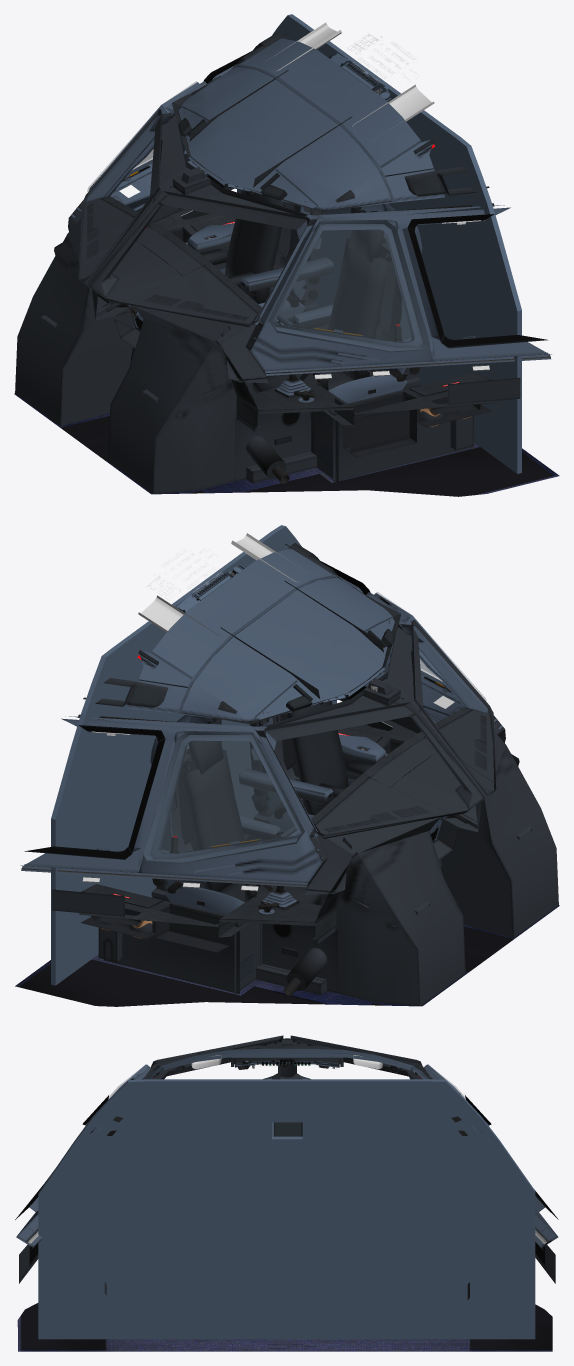
The model's file is interior.glb.
3 renders of one model, top to bottom at view 1: azimuth 30°, elevation 25°; view 2: azimuth 150°, elevation 25°; view 3: azimuth 270°, elevation 25°, orthographic. The views are drawn at different scales.
Visible parts, largest first — view 1: cockpit, deck_door, seat_captain, seat_fo; view 2: cockpit, deck_door, seat_fo, seat_captain; view 3: deck_door, cockpit, screen_ewd, deck_door_window.
Boxes of the visible parts, bbox=[...] form: cockpit: bbox=[14, 22, 559, 496]; deck_door: bbox=[237, 14, 521, 473]; seat_captain: bbox=[252, 210, 388, 393]; seat_fo: bbox=[200, 190, 285, 303]; cockpit: bbox=[15, 533, 559, 1006]; deck_door: bbox=[51, 525, 336, 985]; seat_fo: bbox=[184, 721, 320, 905]; seat_captain: bbox=[287, 701, 372, 815]; deck_door: bbox=[38, 1078, 535, 1339]; cockpit: bbox=[15, 1035, 558, 1351]; screen_ewd: bbox=[275, 1122, 302, 1136]; deck_door_window: bbox=[273, 1122, 300, 1136].
Bounding box in the file's own units: 2.02 × 1.84 × 3.2.
Materials: 29 (24 with a texture image).
